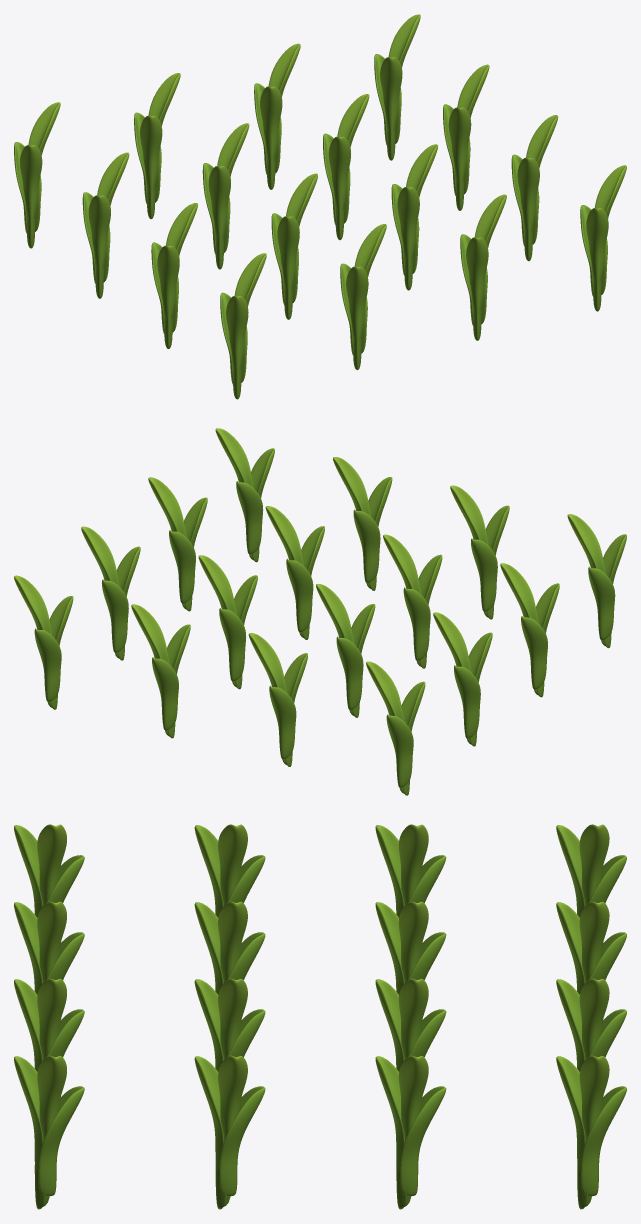
Rendered from CornStage1.fbx.
3 renders of one model, top to bottom at view 1: azimuth 30°, elevation 25°; view 2: azimuth 150°, elevation 25°; view 3: azimuth 270°, elevation 25°, orthographic. The views are drawn at different scales.
Parts seen in each view (by area): view 1: Corn_1; view 2: Corn_1; view 3: Corn_1.
Boxes of the visible parts, left/top/right/bottom form: Corn_1: left=14, top=14, right=626, bottom=399; Corn_1: left=14, top=428, right=626, bottom=795; Corn_1: left=14, top=824, right=626, bottom=1209.
Size of the model in its own units: 78.12 by 24.32 by 77.6.
